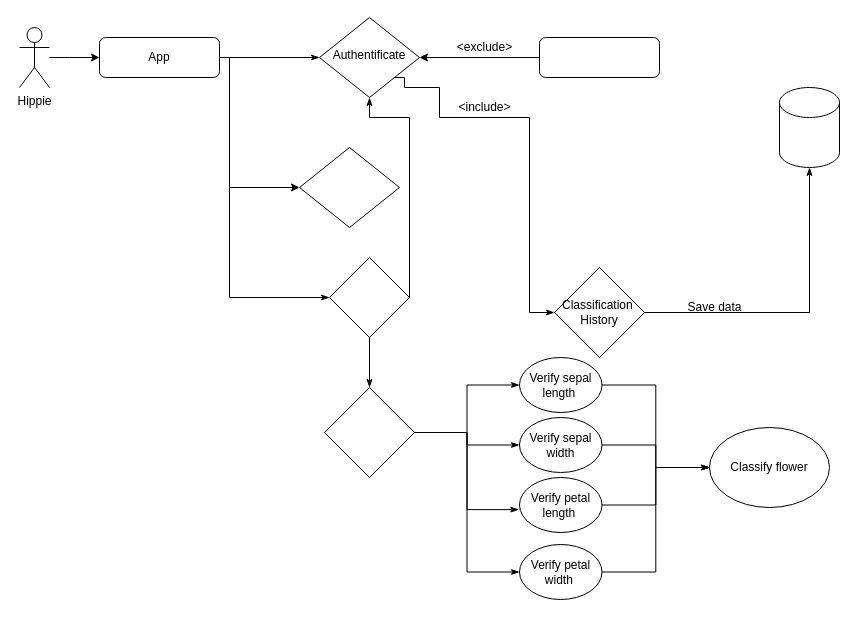
The diagram is 857 pixels wide and 617 high, and some of its shapes have lost their labels. Here are the shapes that lost their labels. From the top down, the box of each, then its label:
(538, 36, 660, 78): Invalid user/ pass
(778, 86, 840, 168): Flower Database
(298, 146, 400, 228): Register
(328, 256, 410, 338): Menu
(324, 386, 414, 478): Take/upload a picture
